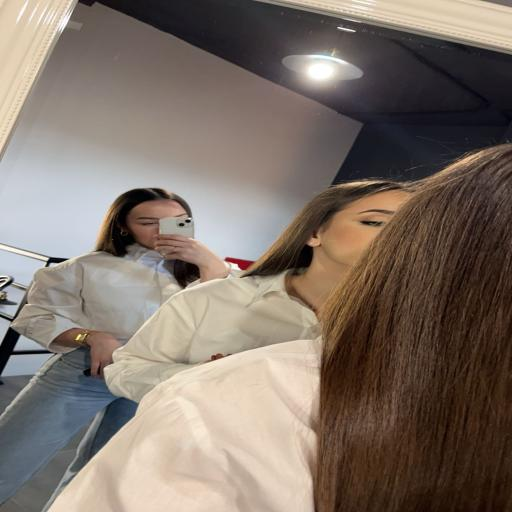marija: (124, 200, 196, 249)
masa: (324, 186, 433, 270)
